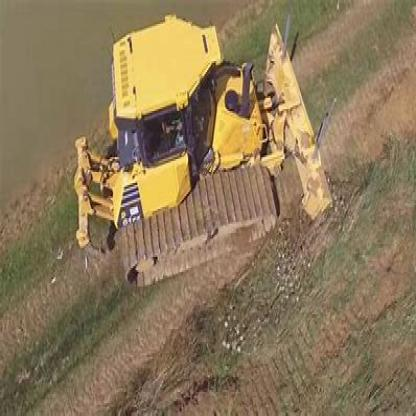bull_dozer/loader/grader: (70, 9, 363, 298)
